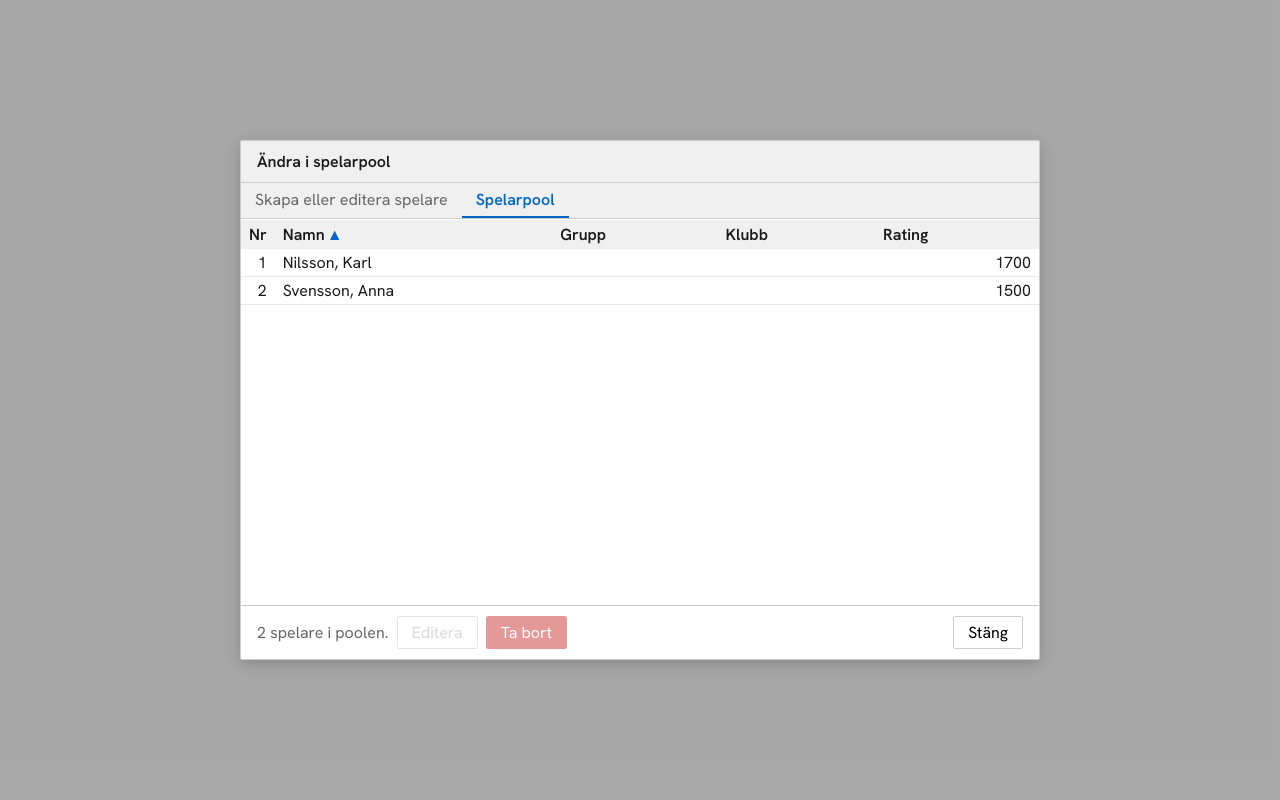
Test: PlayerPoolDialog update validation › shows error when updating player with empty names
Note: Select the existing player in the pool table
Click the text "Svensson, Anna" at (413, 290), box 275,276 -> 552,304
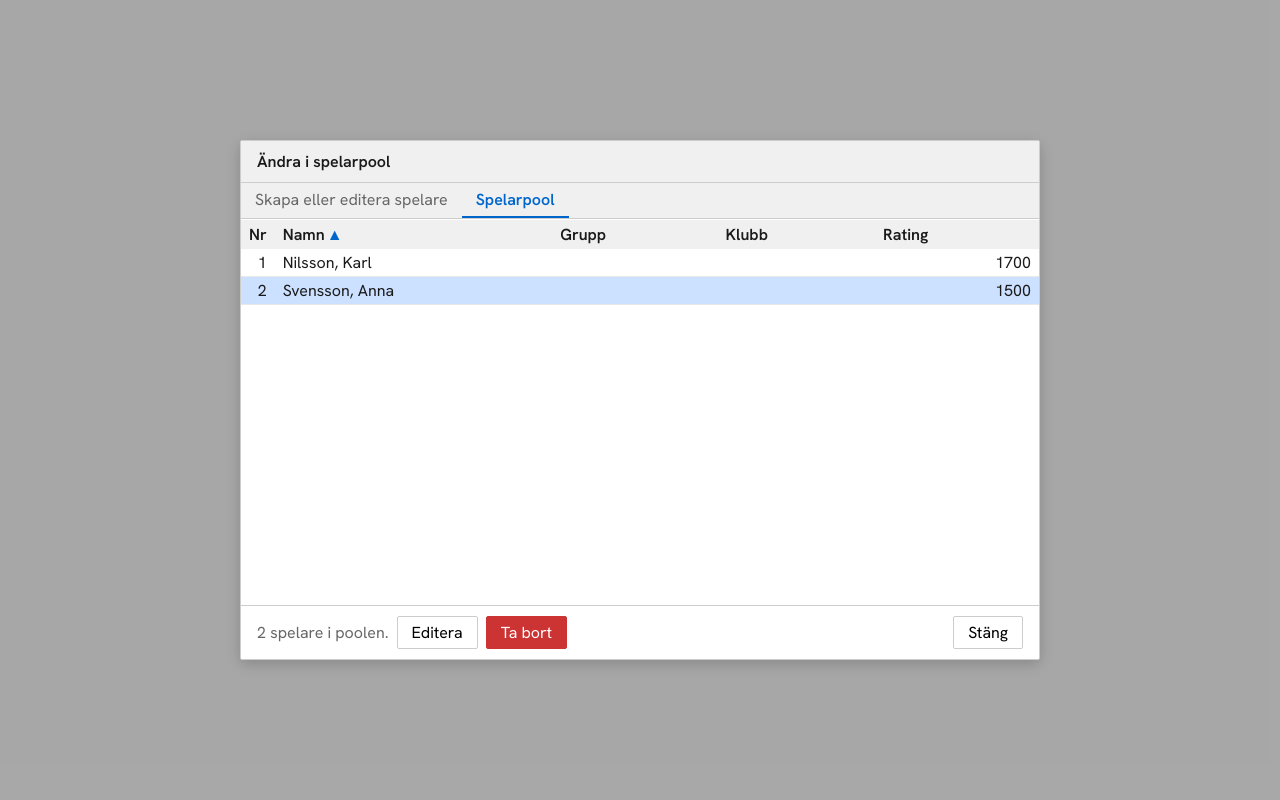
Note: Switch to edit tab
Click the button "Skapa eller editera spelare" at (351, 200), box 241,183 -> 462,218
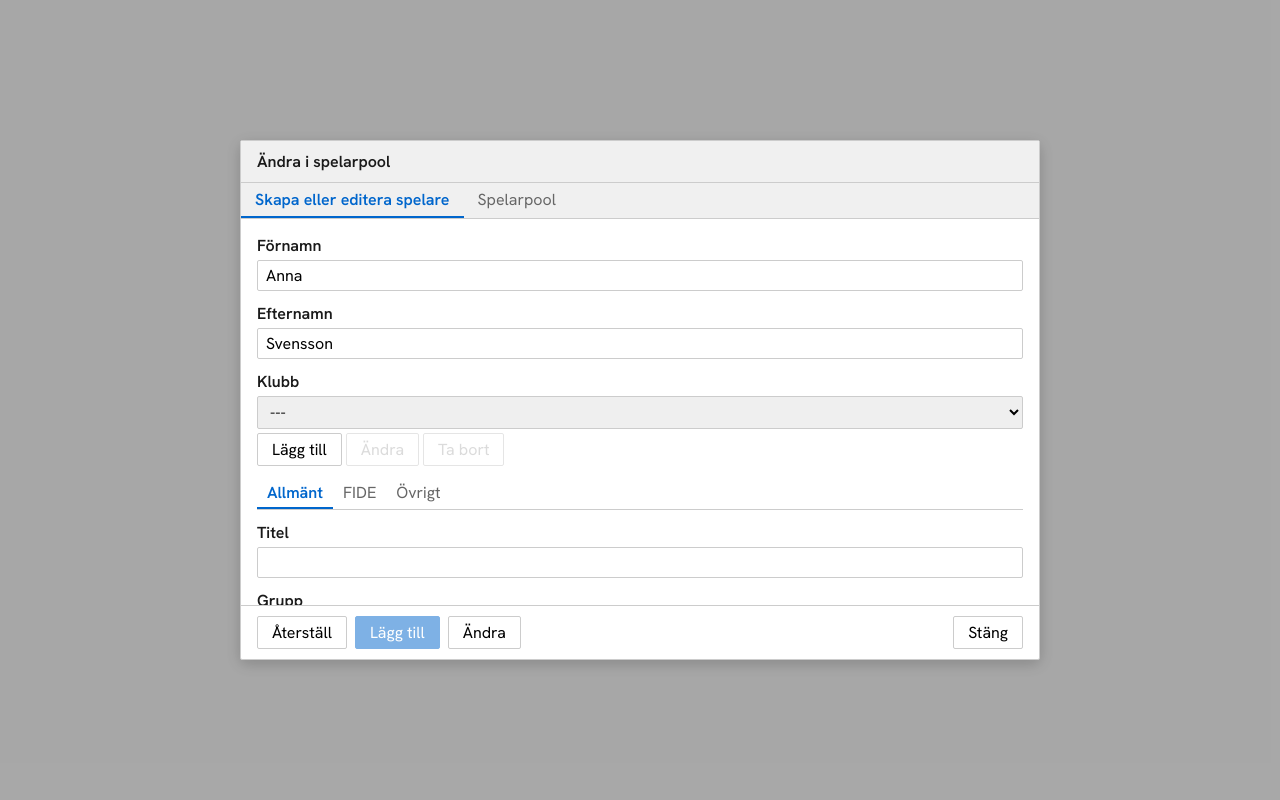
Note: Clear both name fields
Clear the field with test id "first-name-input" at (640, 276), box 257,260 -> 1023,291
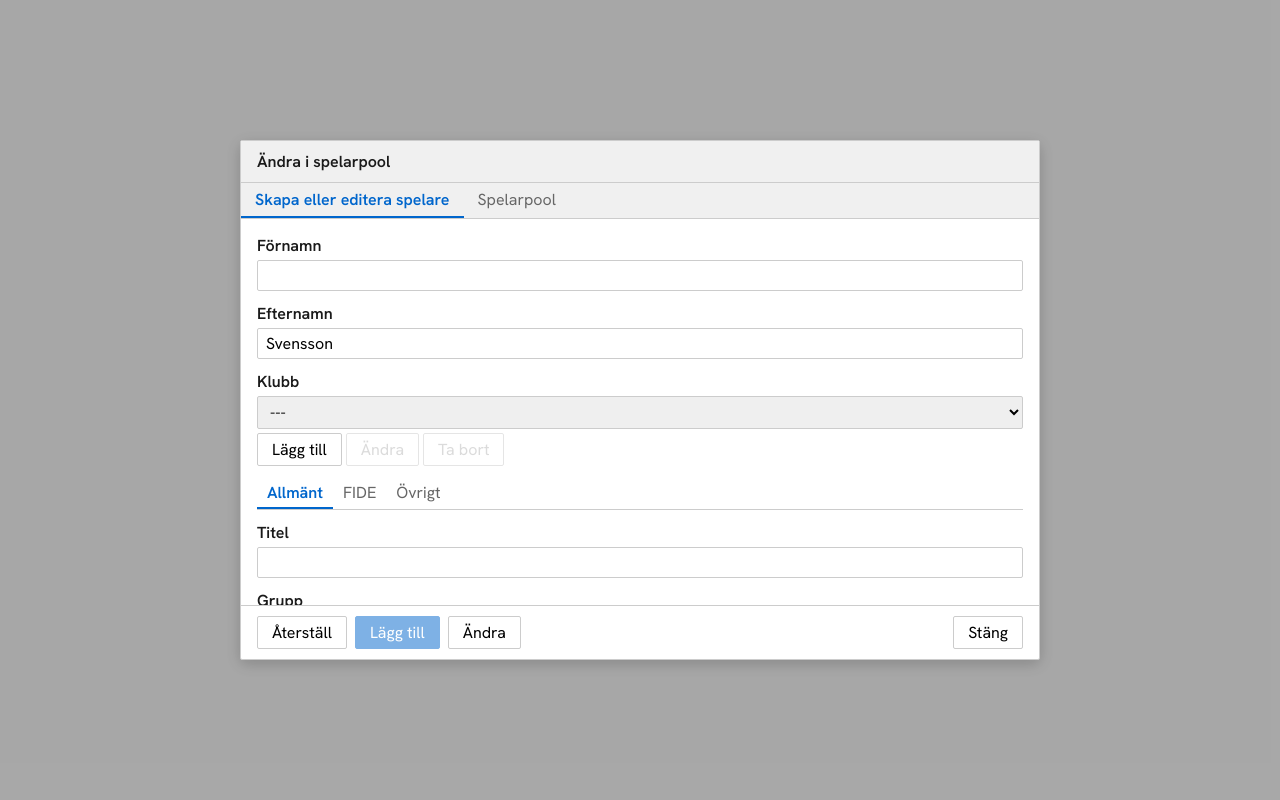
Clear the field with test id "last-name-input" at (640, 344), box 257,328 -> 1023,359
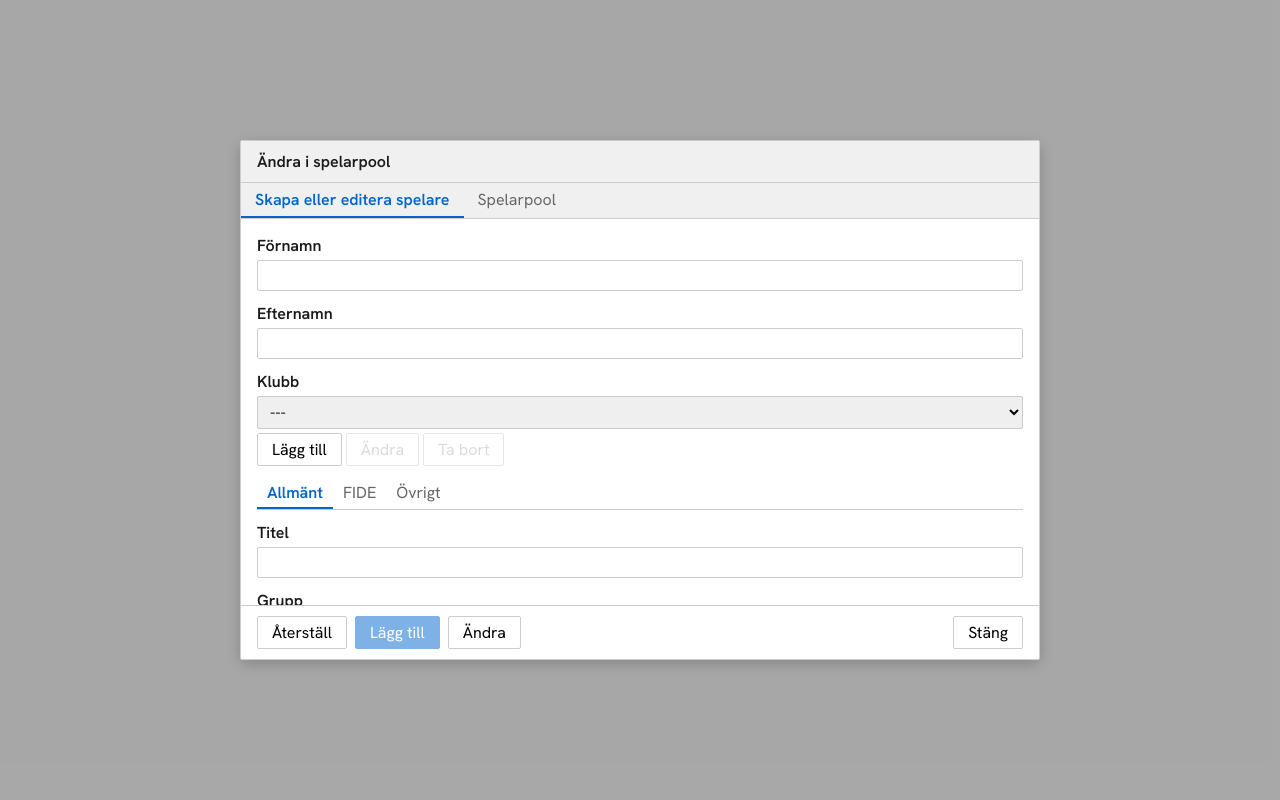
Note: Click update button
Click the button with test id "update-player" at (484, 632), box 448,616 -> 521,649
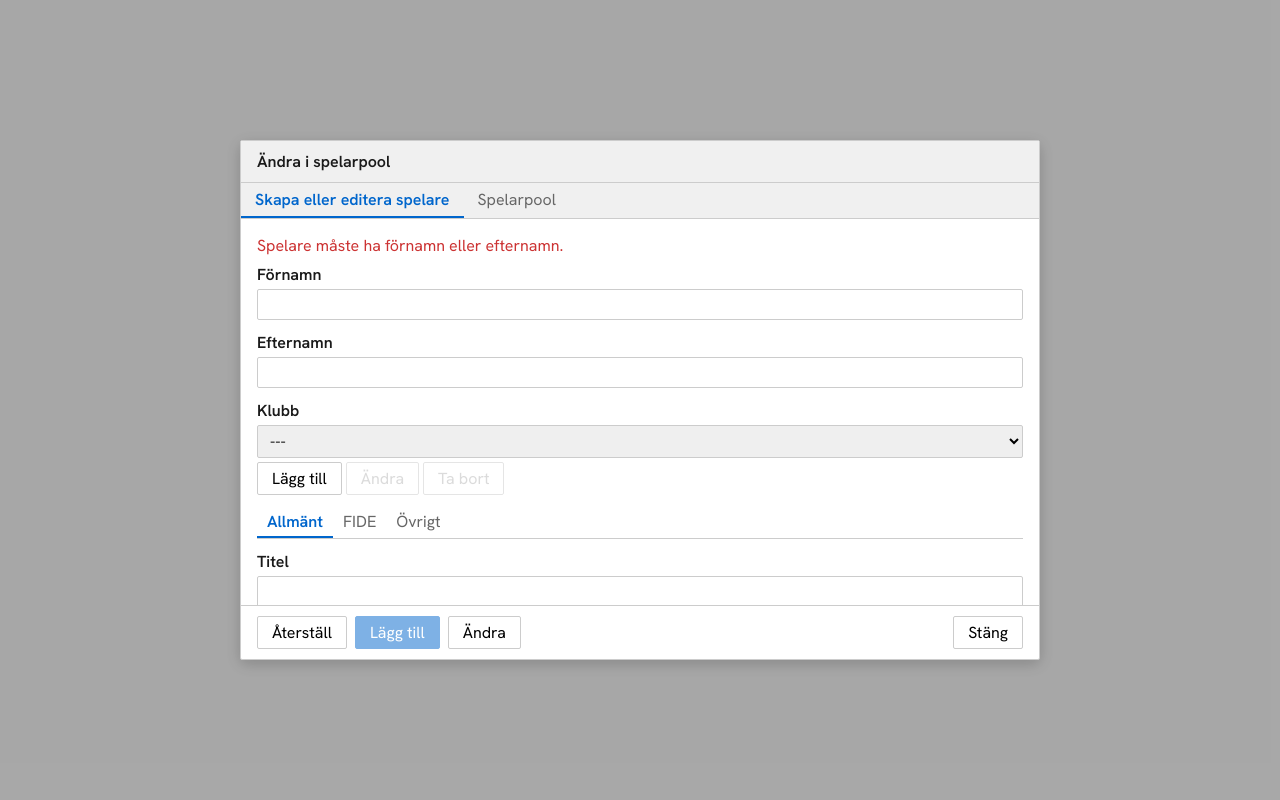
Expected: the text "Spelare måste ha förnamn eller efternamn." is shown, 257,235 -> 563,256
